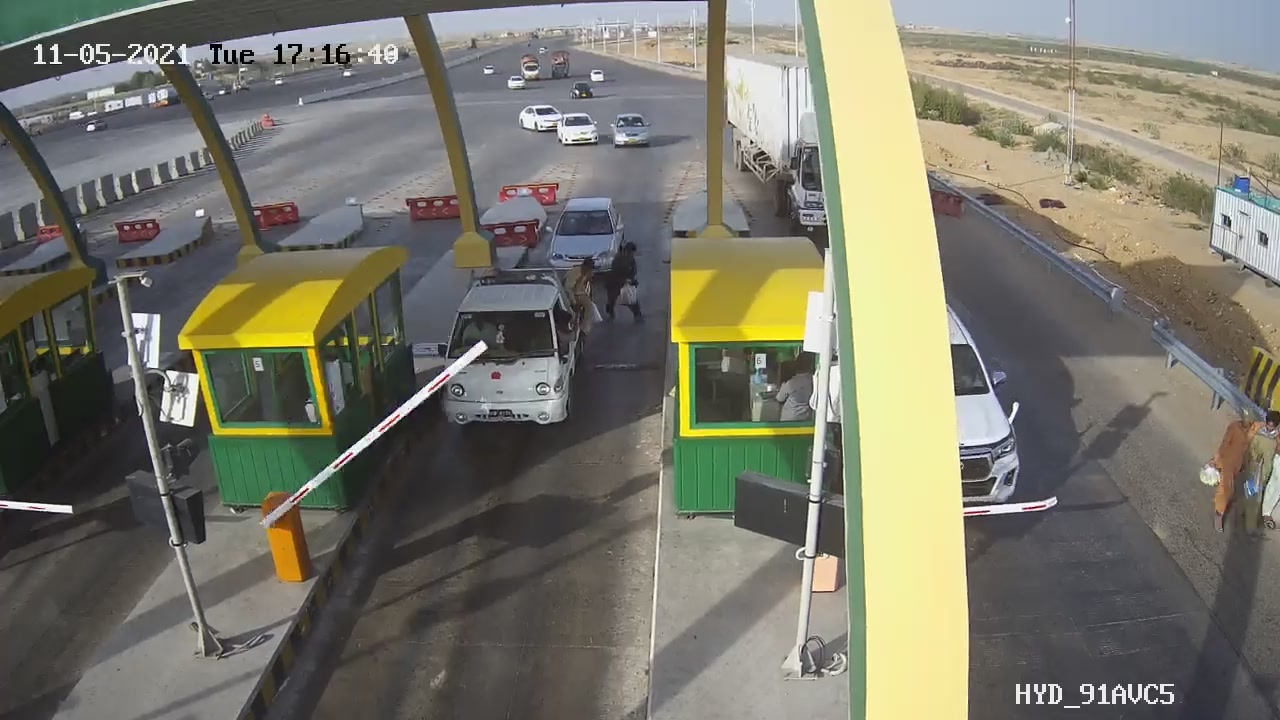F2: (425, 252, 597, 442)
